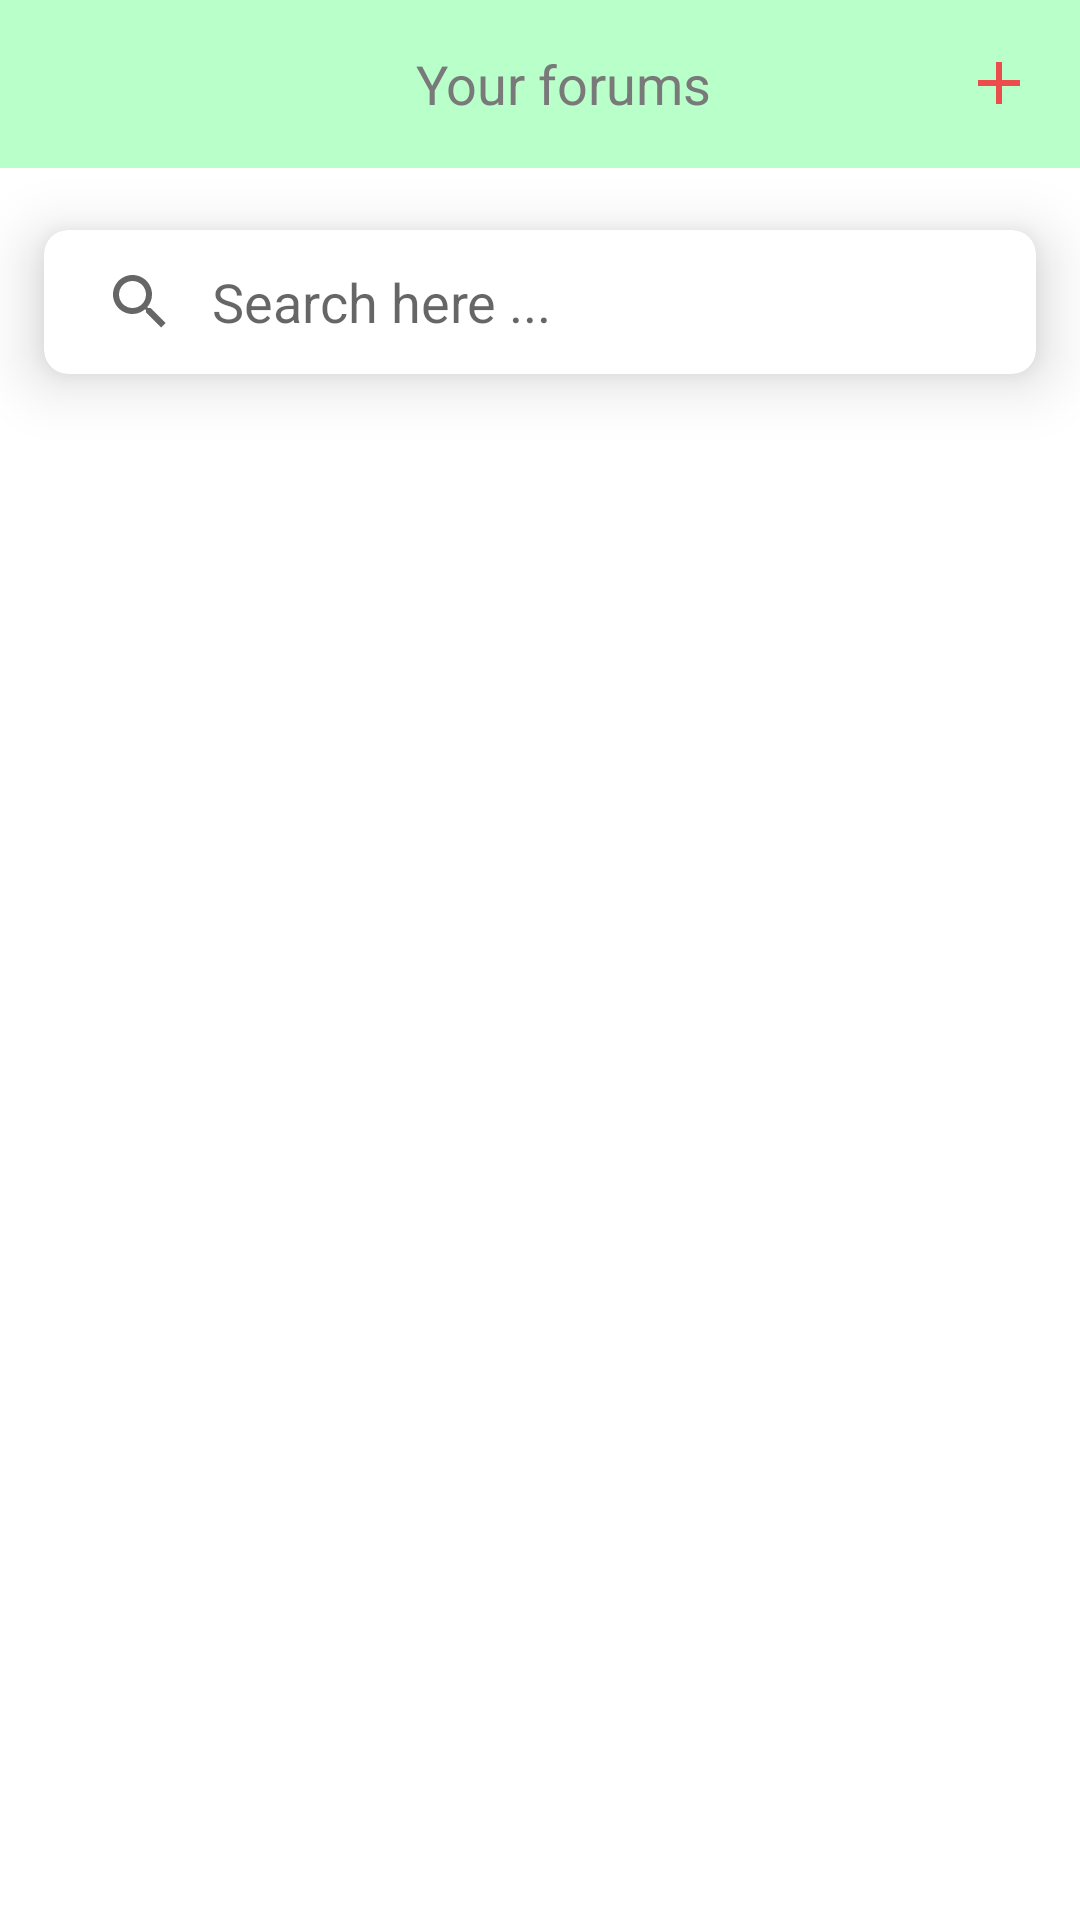

Locate icon controls on the screen. Image size 1080w x 1920h, boxes as (x1, y1, x2, y2).
add: (978, 62, 1020, 104)
